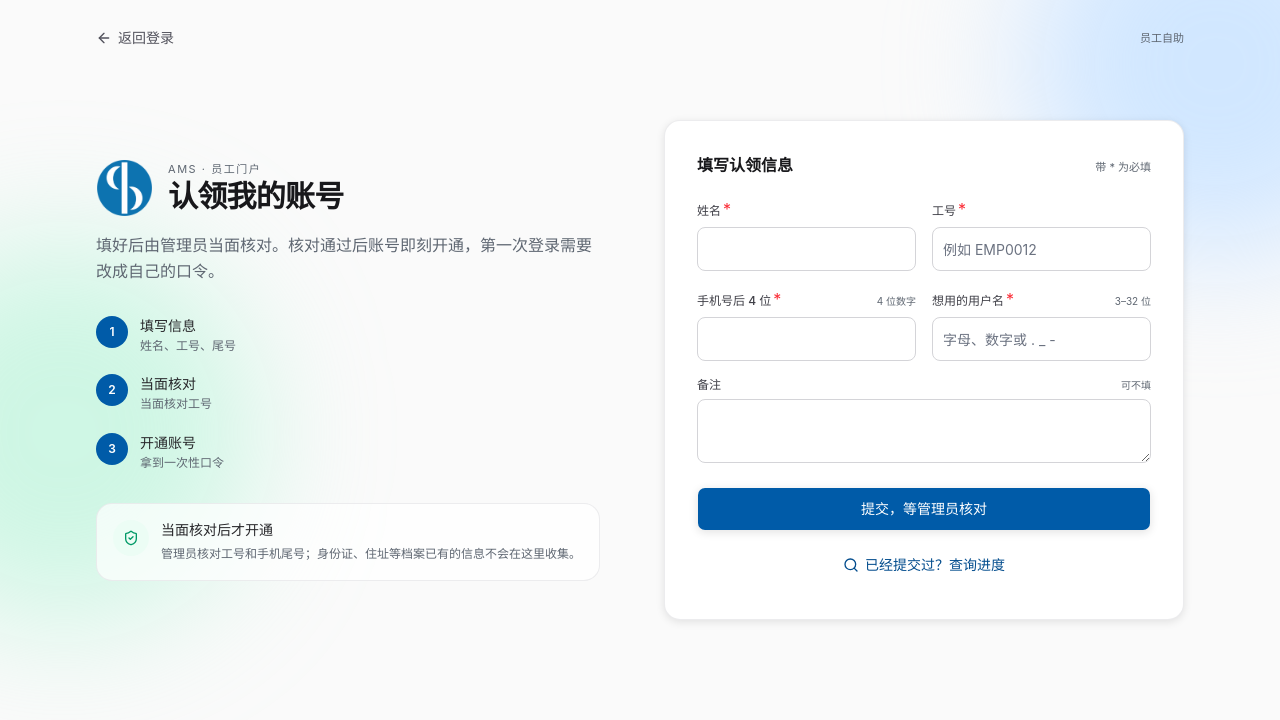
Test: 认领表单行内校验 › 用户名格式不对：提示字符范围，不把内容清空
Type "何斌" into the field labelled "姓名" at [806, 249], box [697, 227, 916, 271]
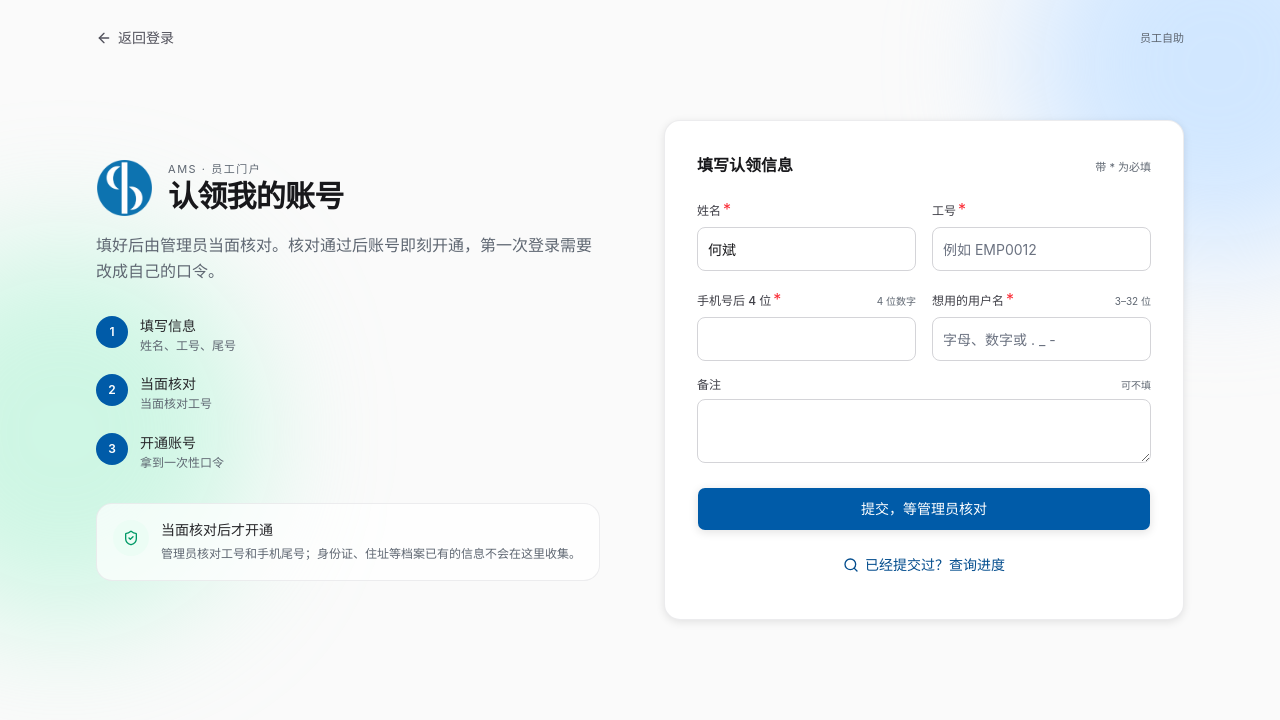
Type "EMP0027" into the field labelled "工号" at [1042, 249], box [932, 227, 1151, 271]
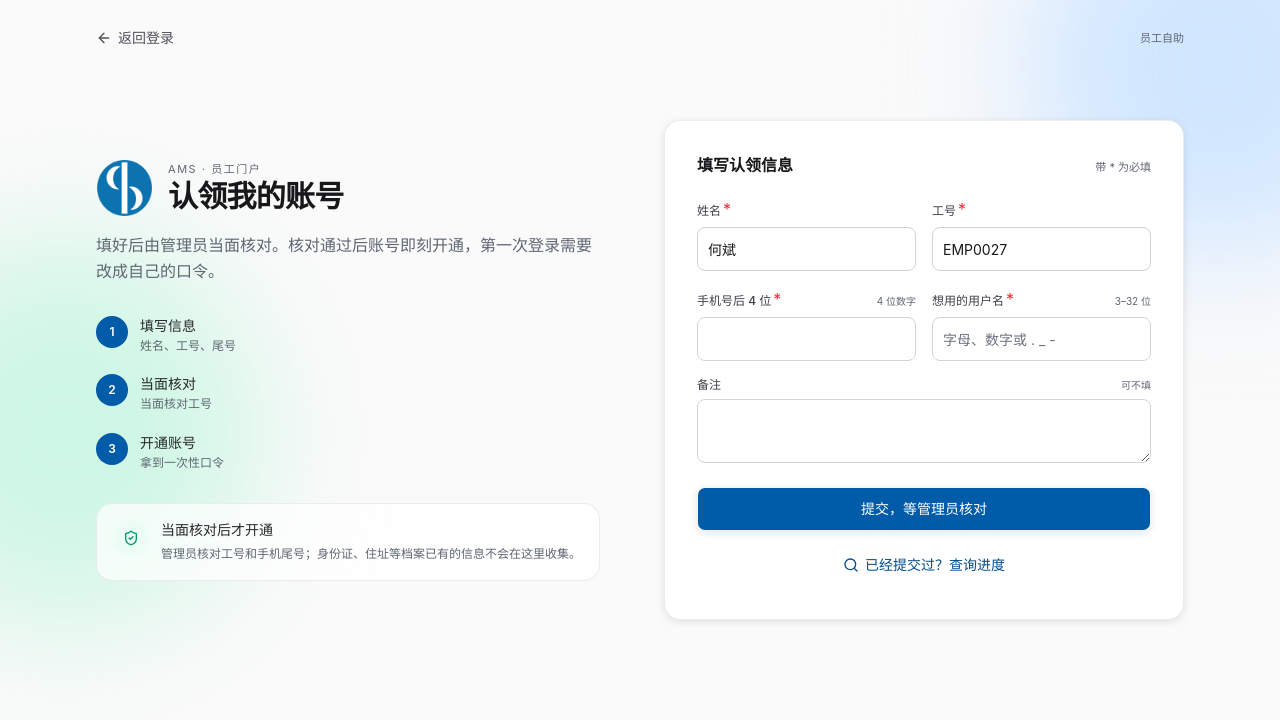
Type "1234" into the field labelled "手机号后 4 位" at [806, 339], box [697, 317, 916, 361]
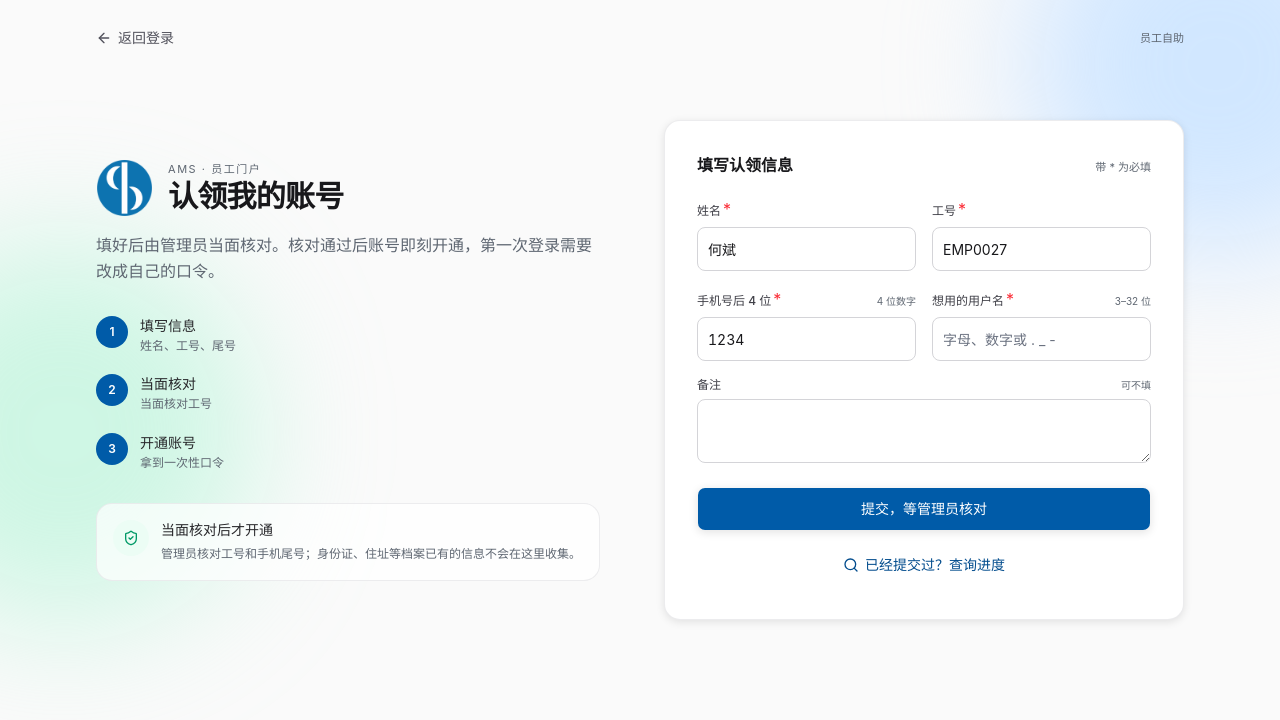
Type "a" into the field labelled "想用的用户名" at [1042, 339], box [932, 317, 1151, 361]
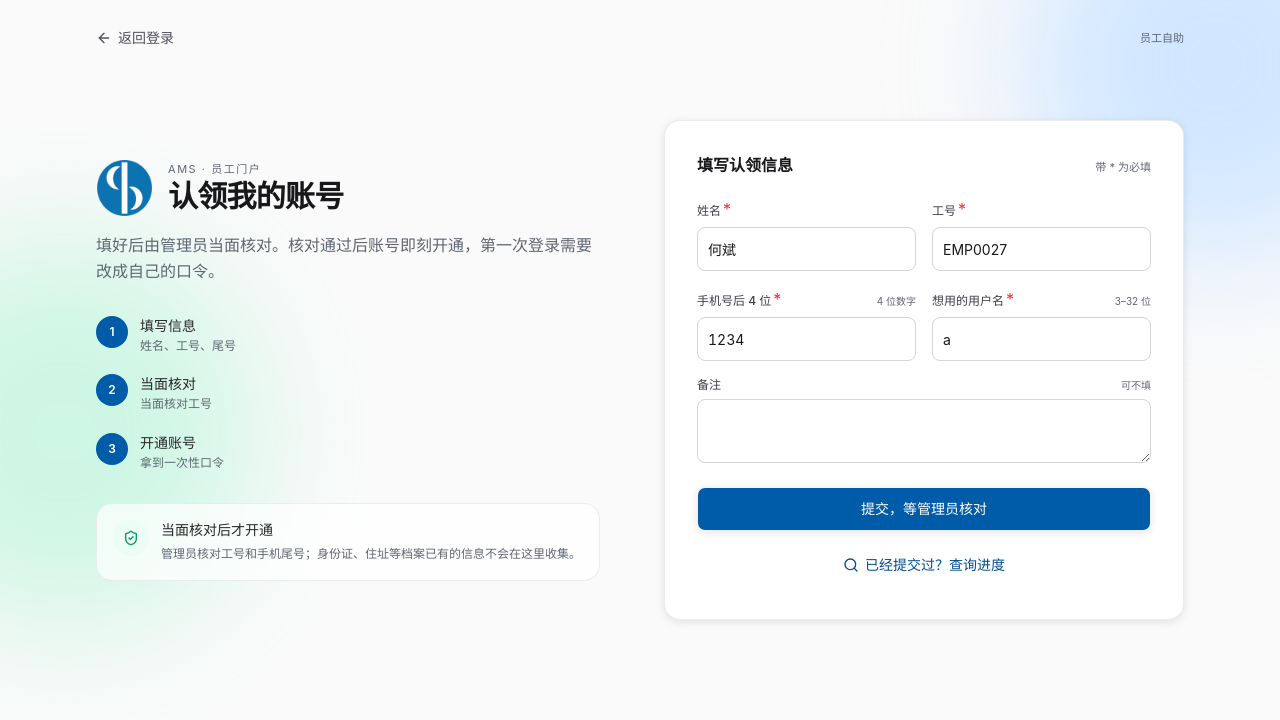
Click the button "提交，等管理员核对" at [924, 509], box [697, 487, 1151, 531]
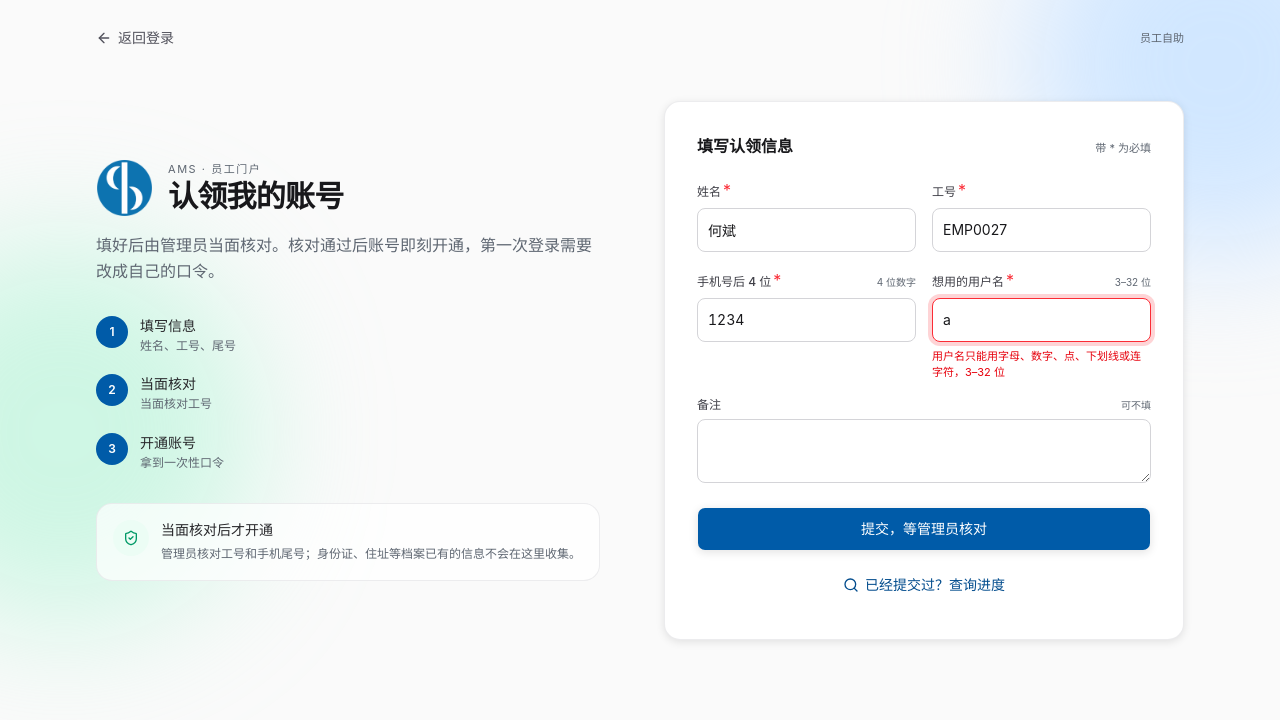
Expected: the text "用户名只能用字母、数字、点、下划线或连字符，3–32 位" is shown, [932, 348, 1151, 380]
